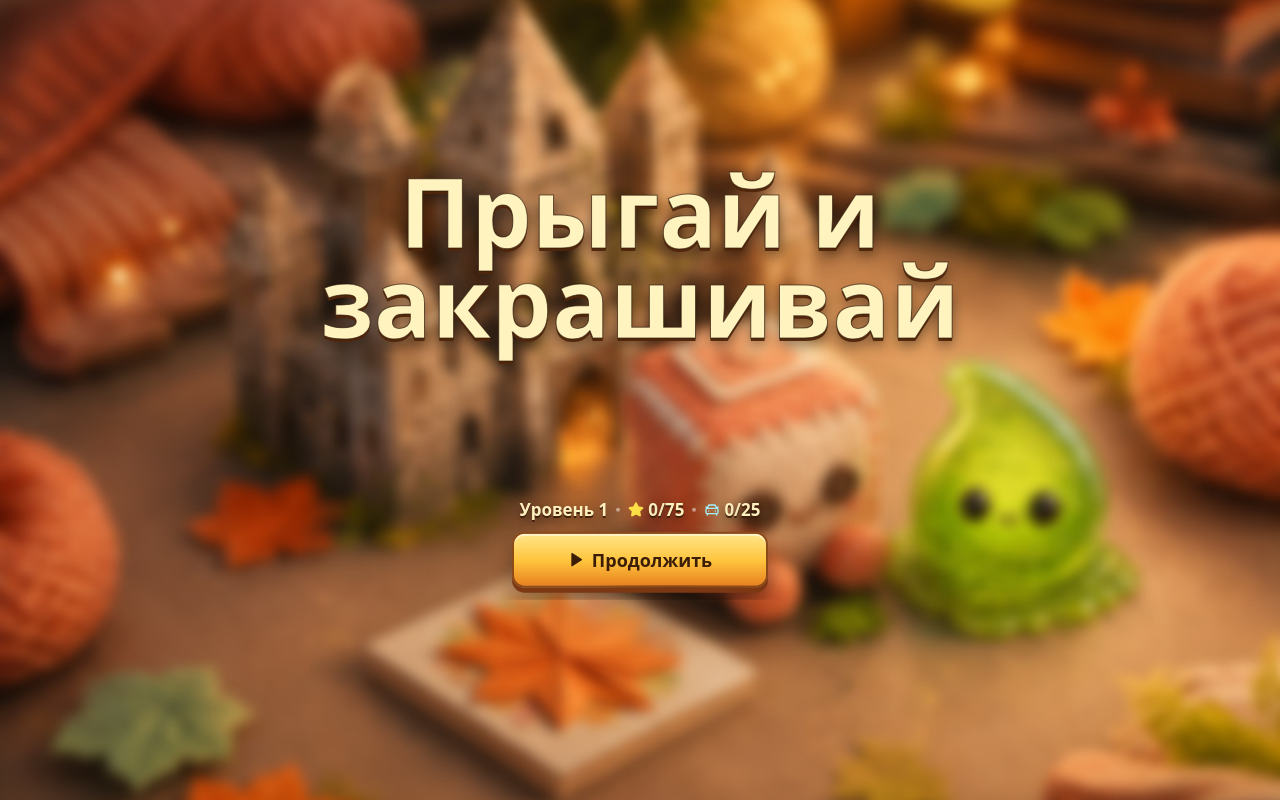
GameCanvas yandex lifecycle › shows special feedback for a three-star win
The width and height of the screenshot is (1280, 800).
Expected: the text "Уровень 1 / 25" is shown, [57,103,188,121]
What coordinates should you click on to do the following:
click the button "Продолжить"
I would click on:
 (640, 559)
Its box is [512,531,768,587].
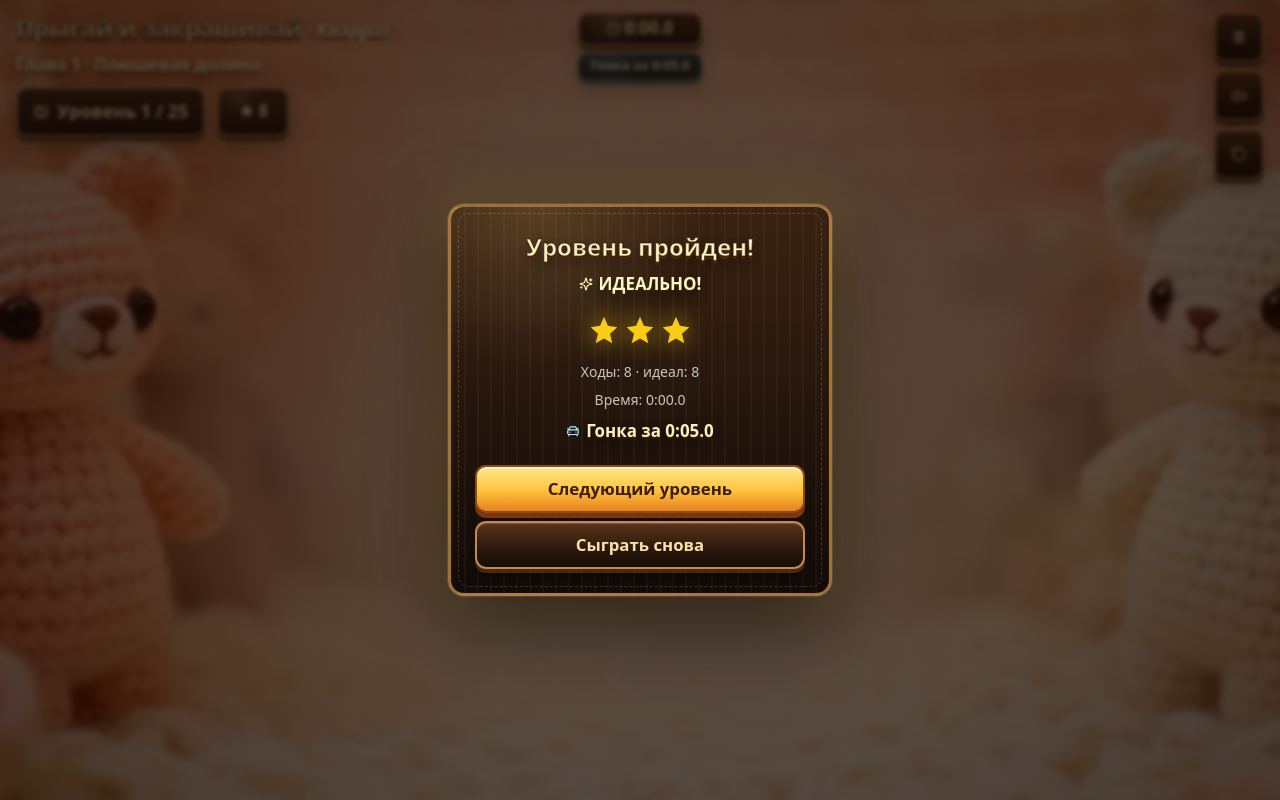
Now the element with test id "start-screen" is gone
Now the element with test id "perfect-celebration" is shown, box [475,231,805,569]
Now the text "Идеально!" is shown, box [579,275,701,293]
